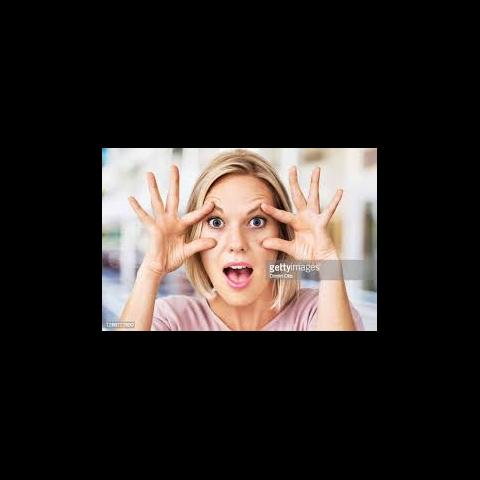opened: (201, 202, 277, 241)
